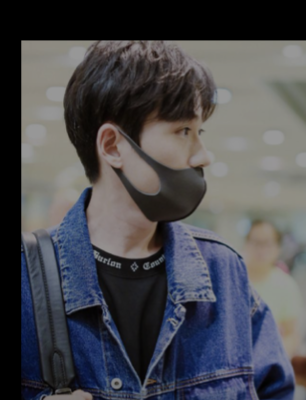mask_weared_incorrect: (127, 112, 211, 222)
